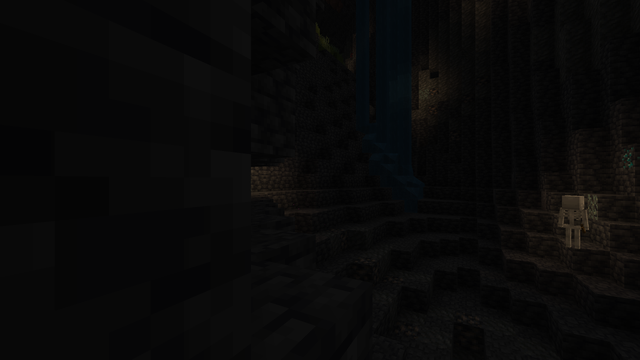squelettes: (560, 195, 586, 250)
